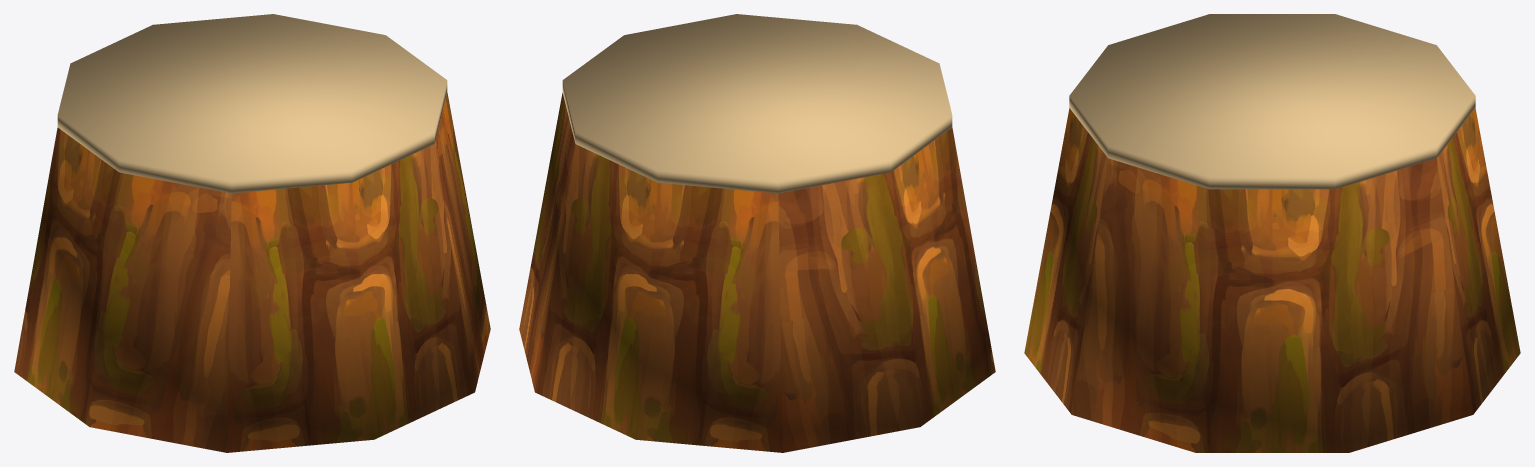
Rendered from stump.glb.
3 renders of one model, left to right at view 1: azimuth 30°, elevation 25°; view 2: azimuth 150°, elevation 25°; view 3: azimuth 270°, elevation 25°, orthographic.
Visible parts, largest first — view 1: stump; view 2: stump; view 3: stump.
Boxes of the visible parts, x1,y1,x2,y2 form: stump: (14,14,490,452); stump: (519,14,995,452); stump: (1024,14,1520,452).
Size of the model in its own units: 1.05 by 0.63 by 1.1.
Materials: 2 (1 with a texture image).
